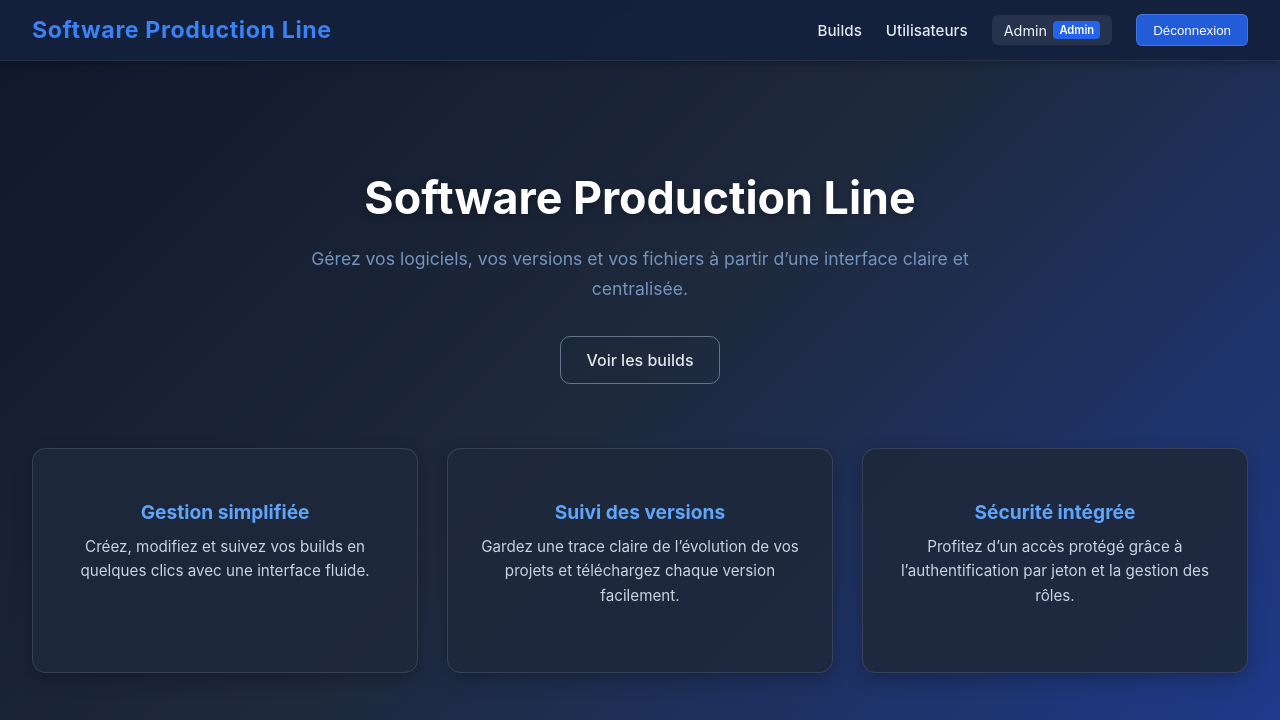
Admin user management › renders users list for admin
// Navigate after app hydrates auth
Step 1. Click the link "Utilisateurs" → coordinates (927, 31), box [886,21,968,40]
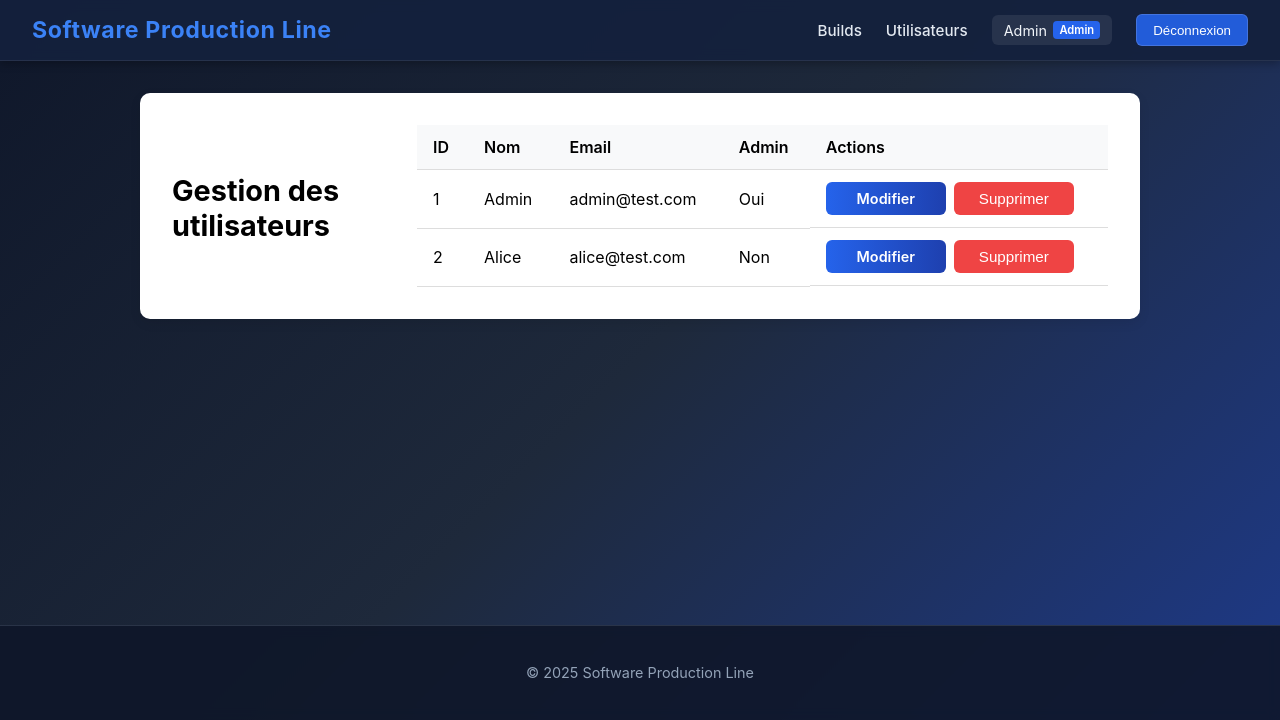
Check: the heading "Gestion des utilisateurs" is shown, box [172,173,339,243]
Check: the text "alice@test.com" is shown, box [553,228,723,286]
Check: the button "Supprimer" in the row of "alice@test.com" is shown, box [954,240,1074,273]
